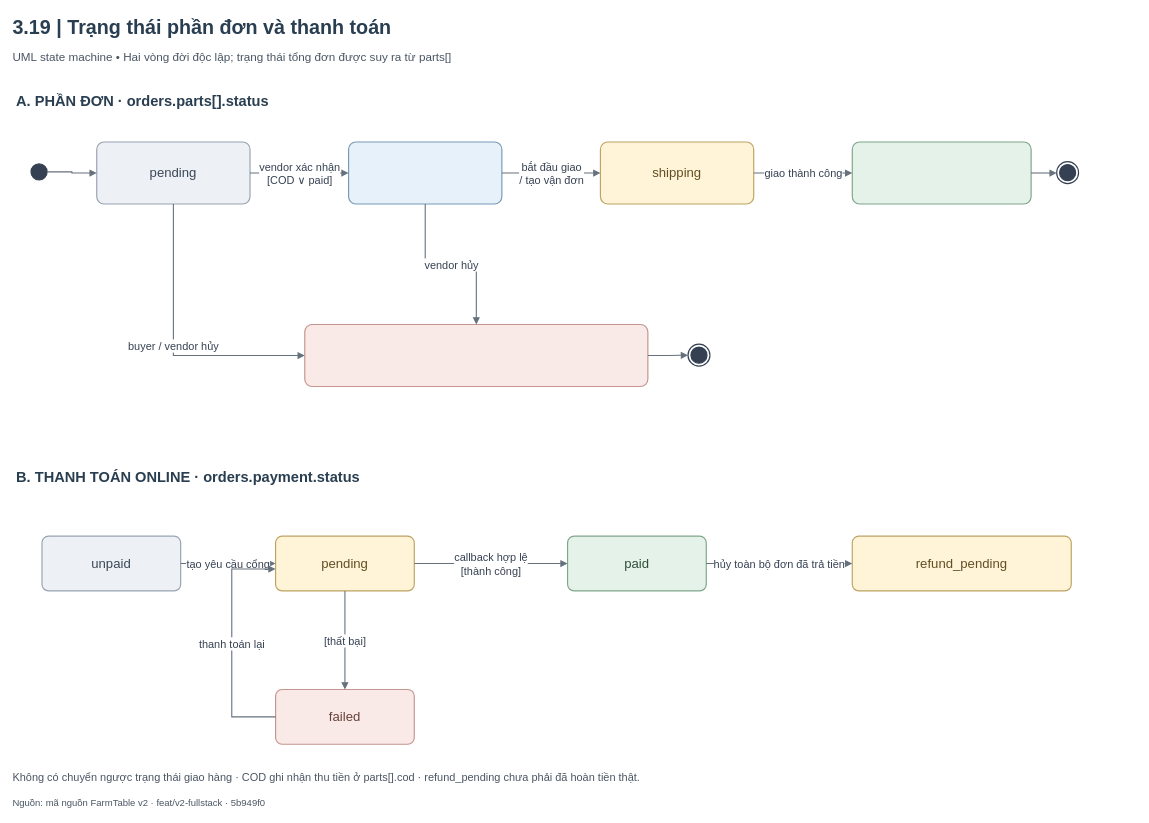
The diagram is 1149 pixels wide and 823 high, and some of its shapes have lost their labels. Here are the shapes that lost their labels. From the top down, the centre of each, then its label:
At pixel 425 172: "confirmed".
At pixel 941 172: "delivered".
At pixel 476 355: "cancelled entry / hoàn kho đúng 1 lần".
